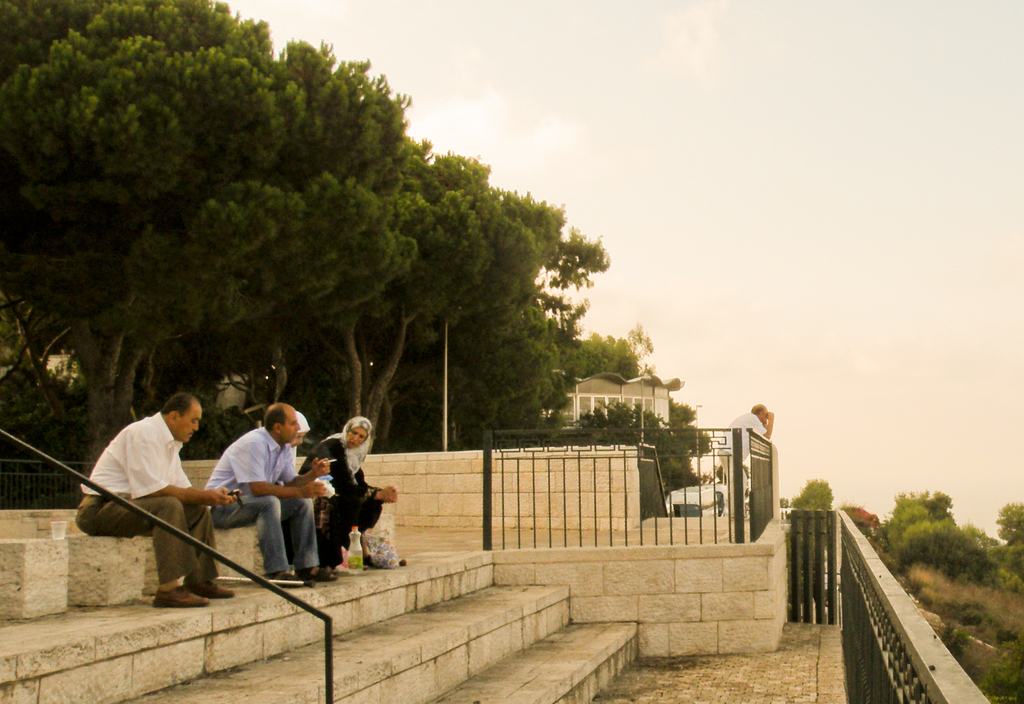Tree: (0, 0, 708, 512)
